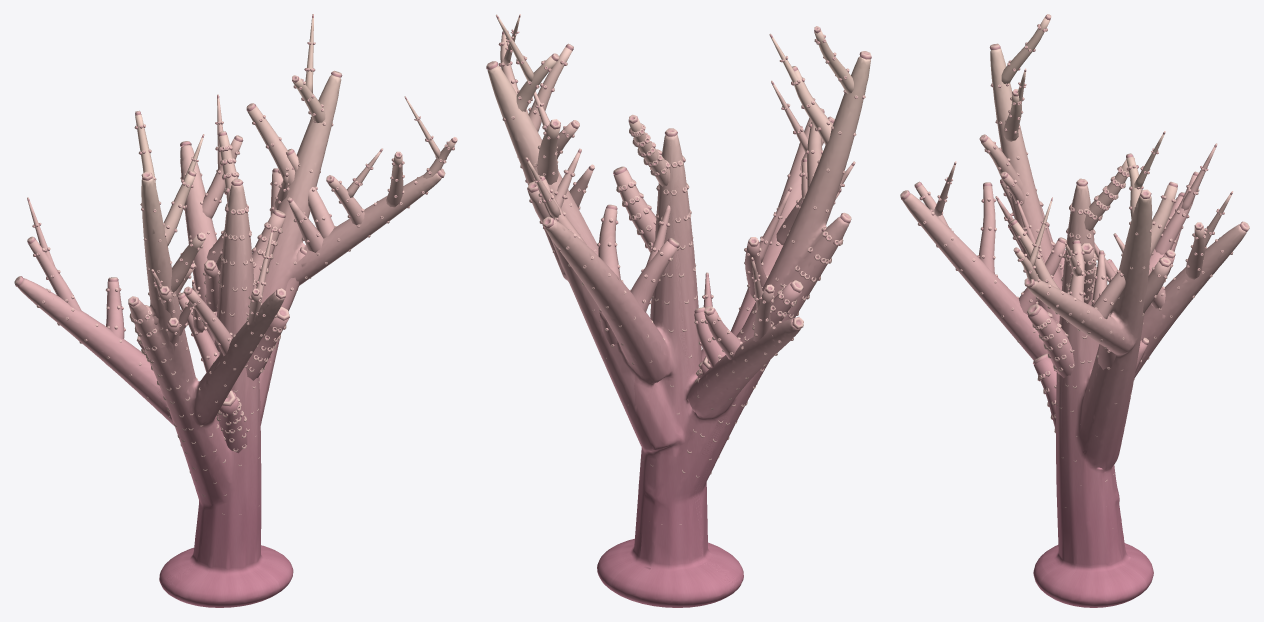
File: acropora.glb
3 renders of one model, left to right at view 1: azimuth 30°, elevation 25°; view 2: azimuth 150°, elevation 25°; view 3: azimuth 270°, elevation 25°, orthographic. The views are drawn at different scales.
Visible parts, largest first — view 1: Living_Tissue, Radial_And_Axial_Corallites; view 2: Living_Tissue, Radial_And_Axial_Corallites; view 3: Living_Tissue, Radial_And_Axial_Corallites.
Part boxes in pixels (x1,y1,x2,y2): Living_Tissue: [17, 18, 456, 607]; Radial_And_Axial_Corallites: [14, 14, 457, 514]; Living_Tissue: [487, 17, 870, 607]; Radial_And_Axial_Corallites: [486, 14, 871, 524]; Living_Tissue: [902, 17, 1246, 607]; Radial_And_Axial_Corallites: [900, 14, 1249, 507].
Size of what is drawn, in the model's own units: 1.42 by 2 by 1.21.
Materials: 1 (1 with a texture image).
